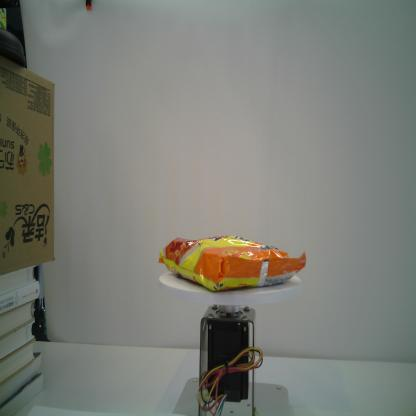Instant Noodles: (157, 232, 307, 292)
